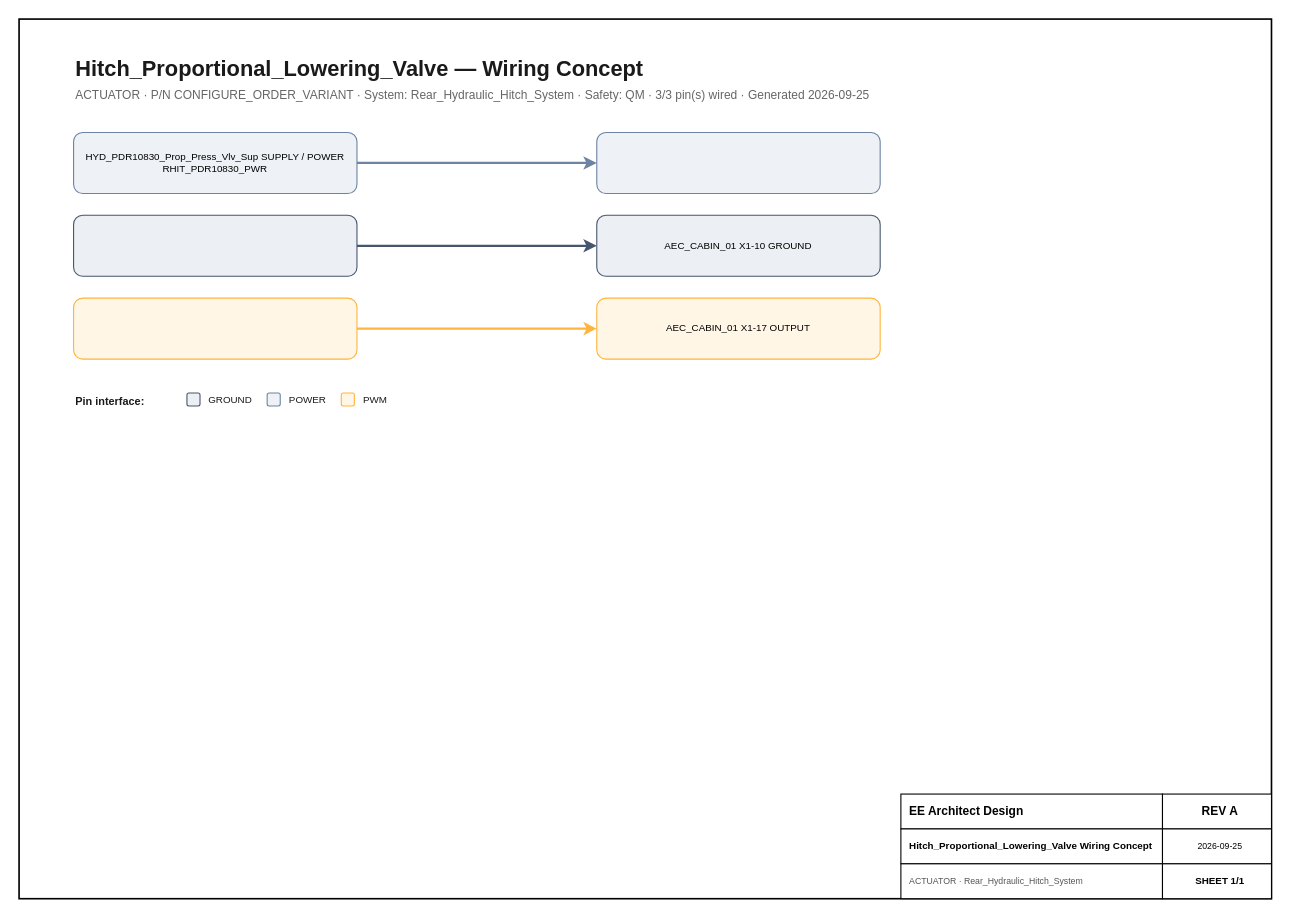
Some shapes in this 1292 by 919 pixel diagram are drawn without their labels. Each missing label, with the centre of its shape:
AEC_CABIN_01 X1-3 SUPPLY: [738,162]
HYD_PDR10830_Cmd INPUT / PWM RHIT_PDR10830_CMD: [214,328]
HYD_PDR10830_Prop_Press_Vlv_Gnd GROUND / GROUND RHIT_PDR10830_GND: [214,245]
